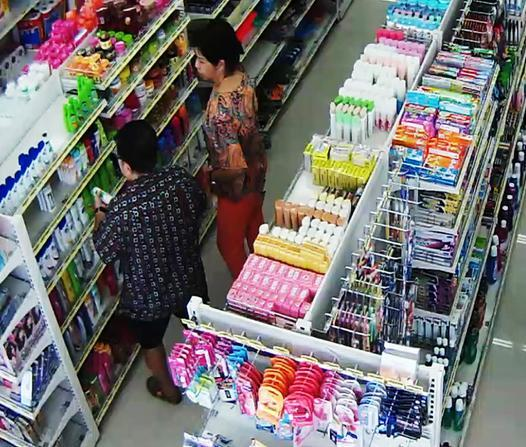smoke: (450, 267, 524, 447)
